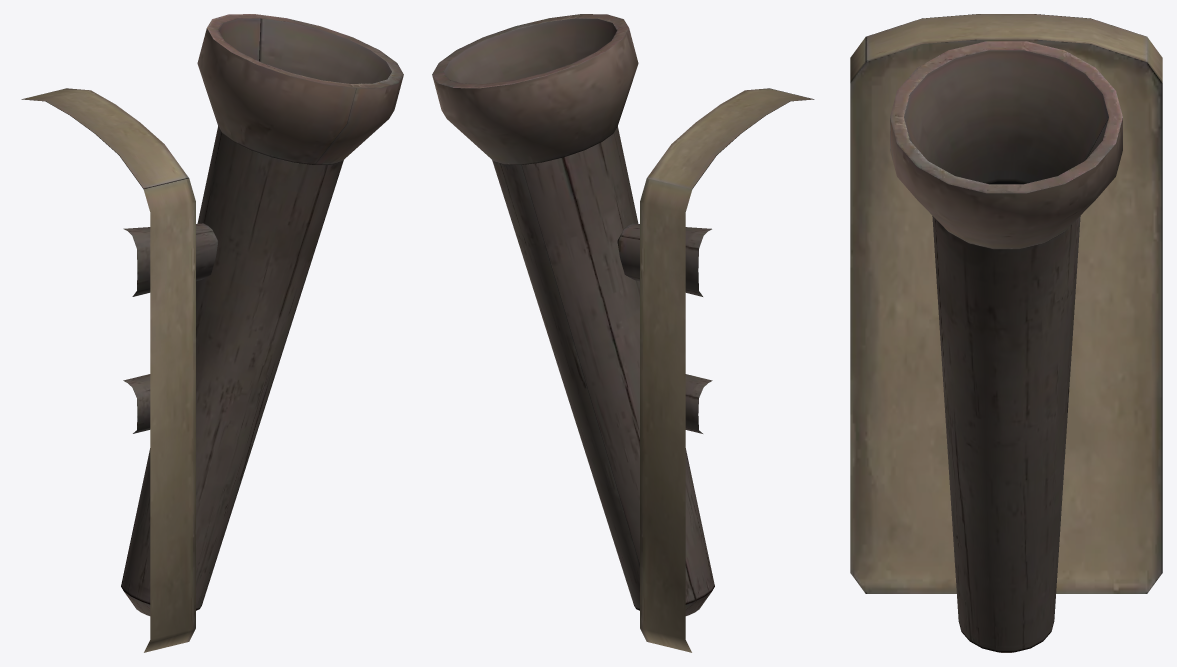
3 renders of one model, left to right at view 1: azimuth 30°, elevation 25°; view 2: azimuth 150°, elevation 25°; view 3: azimuth 270°, elevation 25°, orthographic. The views are drawn at different scales.
Parts seen in each view (by area): view 1: body0_model0_lod0_mesh0; view 2: body0_model0_lod0_mesh0; view 3: body0_model0_lod0_mesh0.
Part boxes in pixels (x1=…): body0_model0_lod0_mesh0: x1=21, y1=14, x2=403, y2=652; body0_model0_lod0_mesh0: x1=432, y1=14, x2=814, y2=652; body0_model0_lod0_mesh0: x1=850, y1=14, x2=1162, y2=652.
Size of the model in its own units: 29.38 by 50.96 by 22.64.
1 material, 1 textured.
